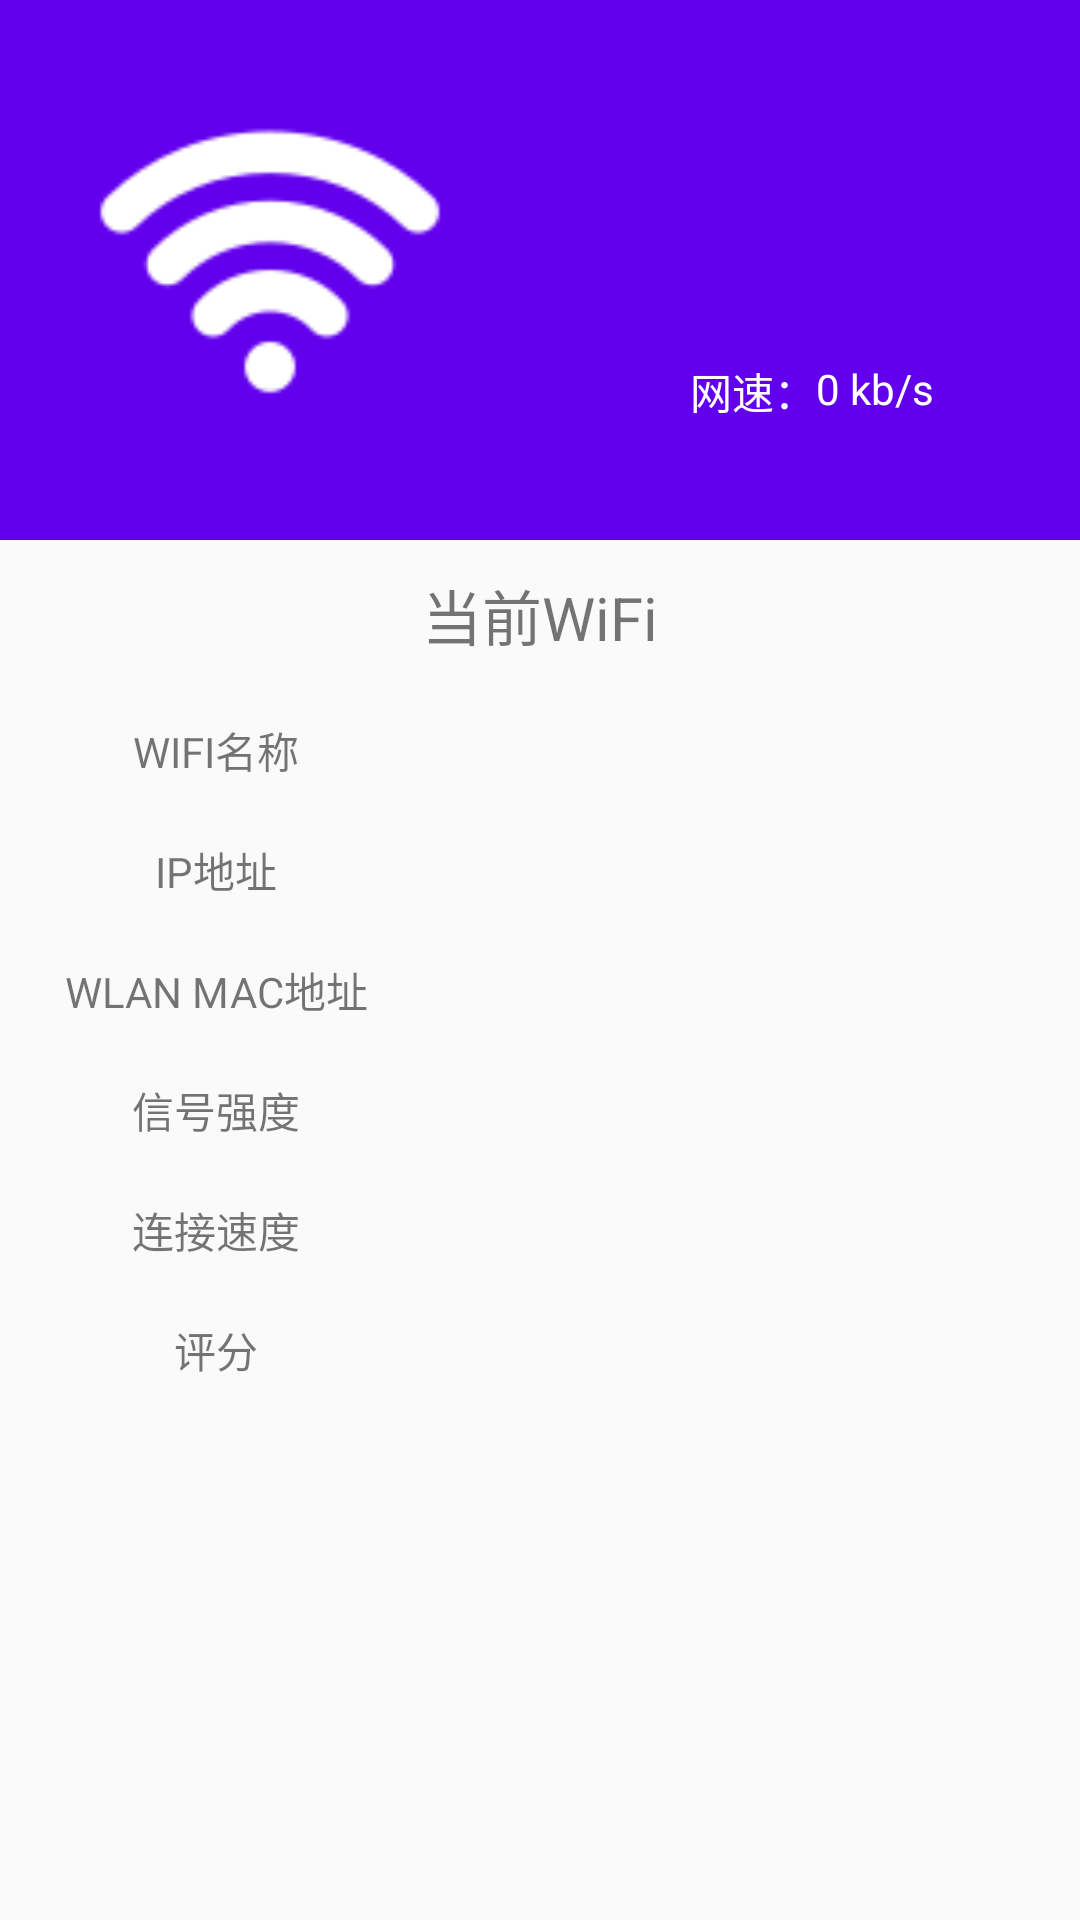

Screen size 1080px x 1920px. Icon name, then its center in pixels as [x,y]:
current wifi: [270,261]
